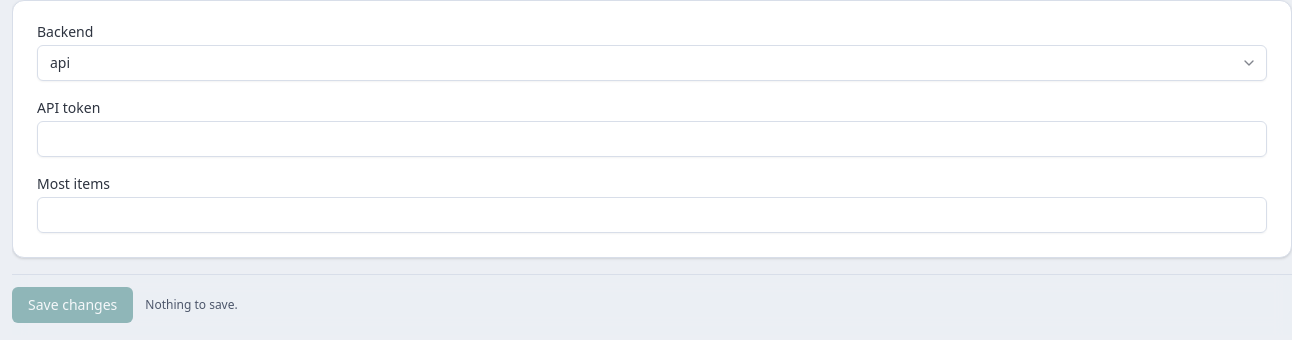
Test: conditional fields › follows the draft, not only the stored value
Expected: the field labelled "API token" is shown, [37,121,1267,157]
Select "database" in the dropdown labelled "Backend" at (652,63), box [37,45,1267,81]
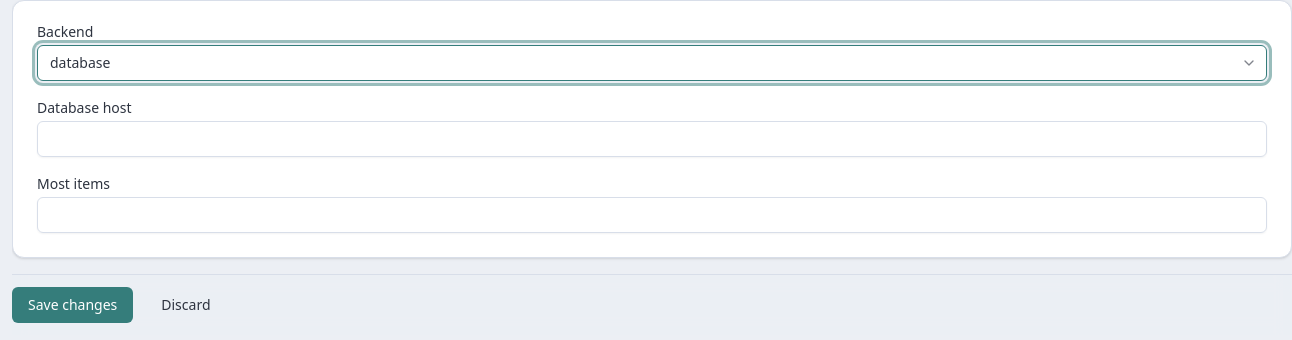
Expected: the field labelled "Database host" is shown, [37,121,1267,157]
Expected: the label labelled "API token" is gone
